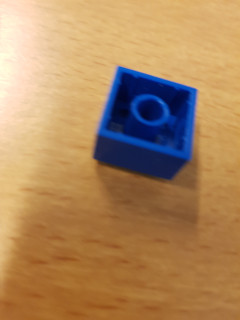2x2 blue: (91, 63, 200, 184)
